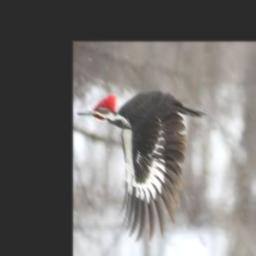Woodpecker: (76, 92, 206, 240)
